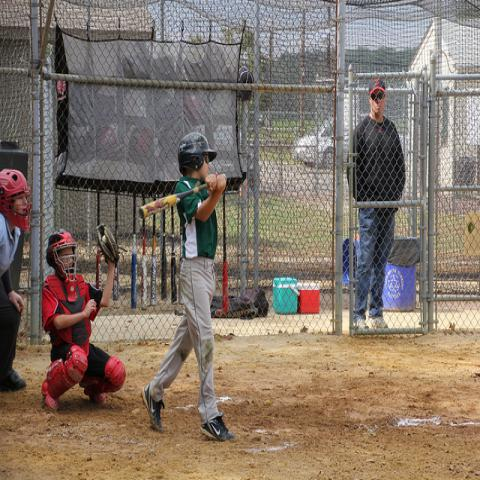car: (295, 116, 351, 169)
